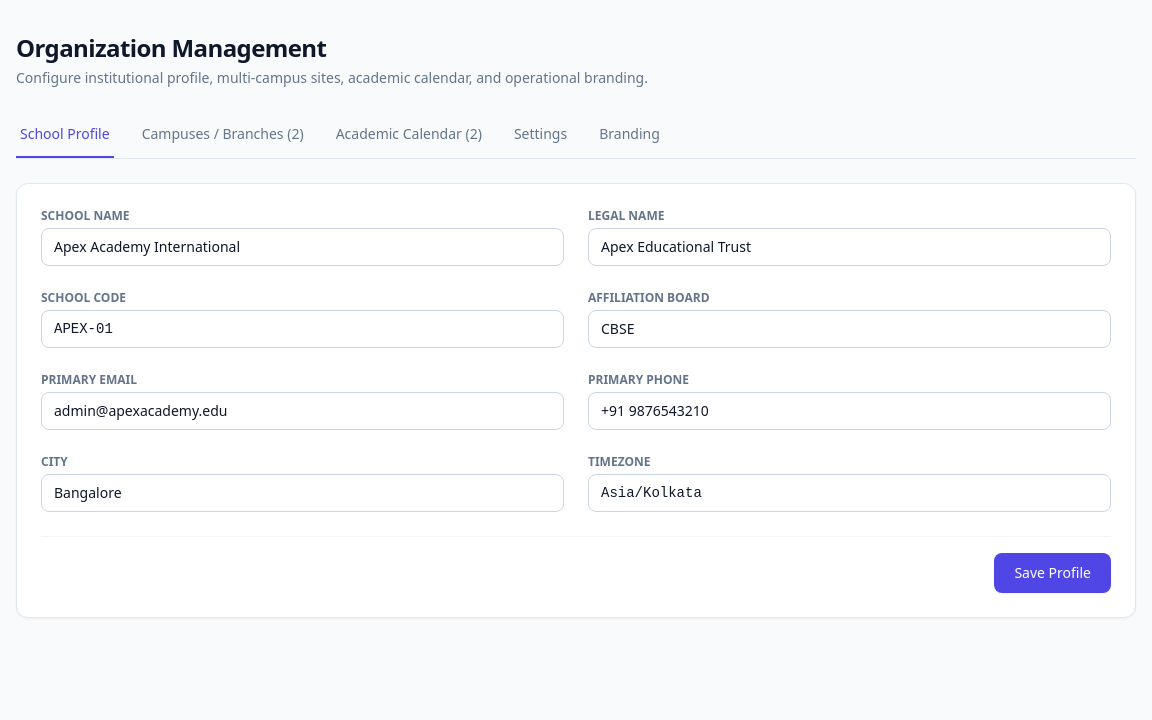
Test: Frontend Organization Management Suite (Phase 5) › 3. Permission-Based Access Control (<Can>) in OrganizationPage › shows action buttons when user possesses relevant permissions
The width and height of the screenshot is (1152, 720).
Expected: the button with test id "save-profile-btn" is shown, [994, 553, 1111, 593]
What coordinates should you click on to do the following:
click the button with test id "tab-campuses"
I would click on:
 (223, 135)
Its box is [138, 112, 308, 158].
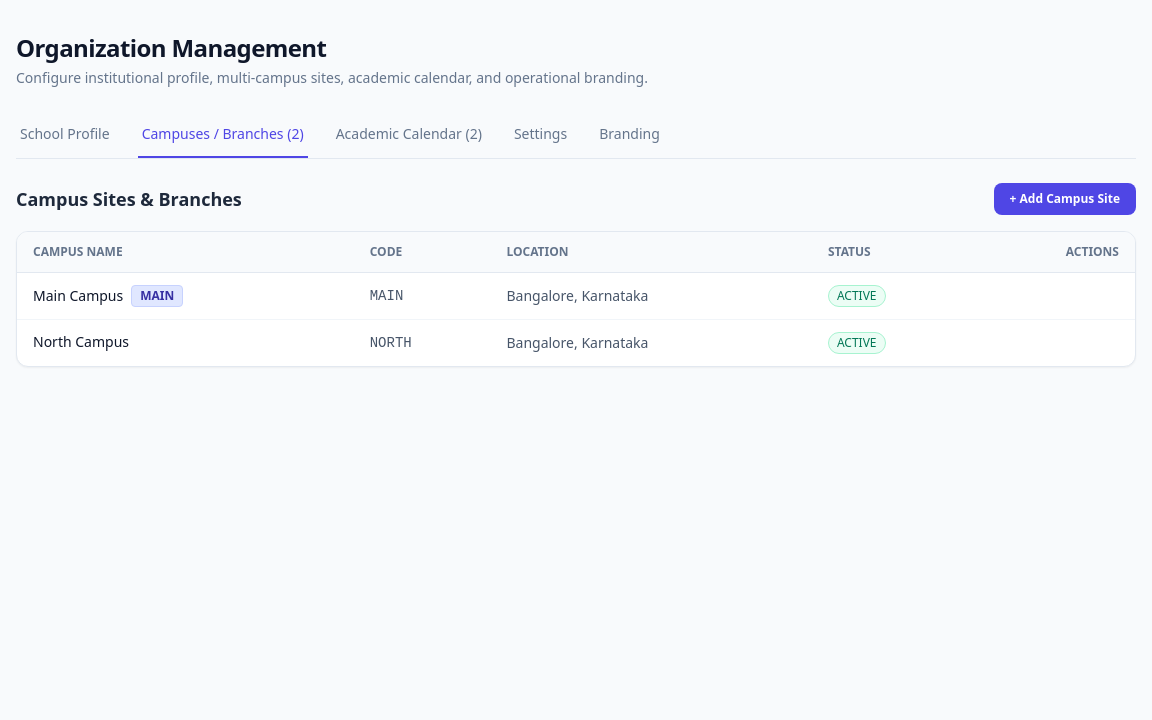
Now the button with test id "add-campus-btn" is shown, box [994, 183, 1136, 215]
What coordinates should you click on to do the following:
click the button with test id "tab-academic-years"
I would click on:
 (409, 135)
Its box is [332, 112, 486, 158].
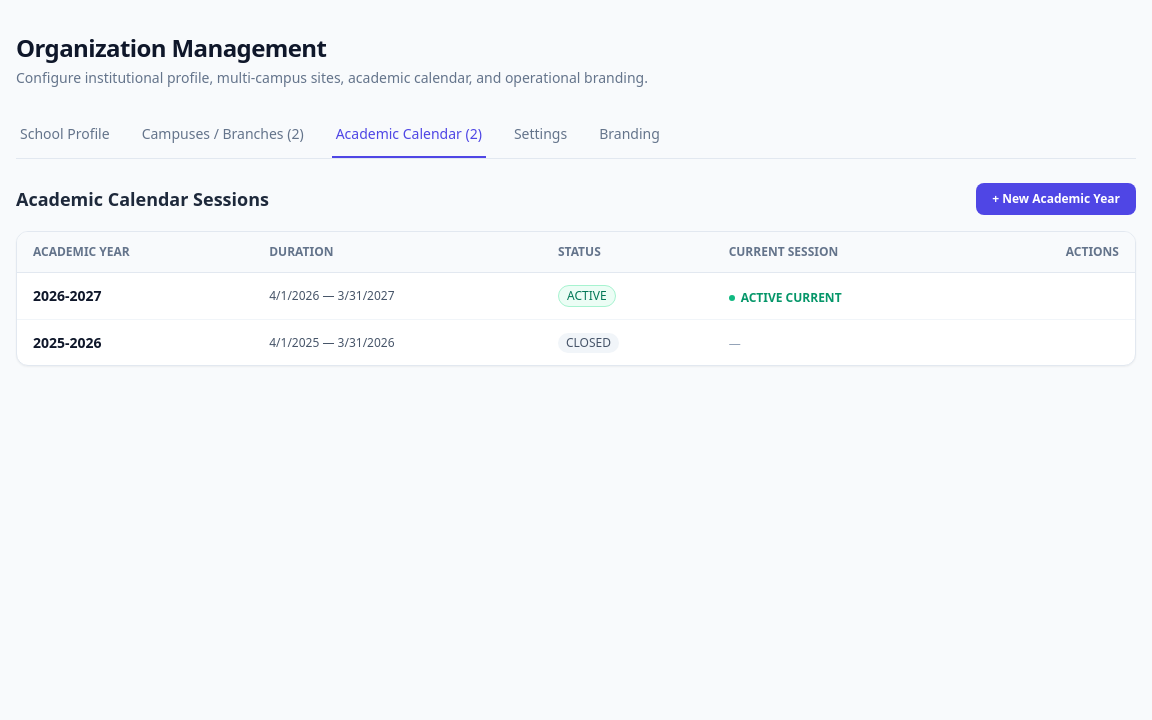
Now the button with test id "add-ay-btn" is shown, box [976, 183, 1136, 215]
